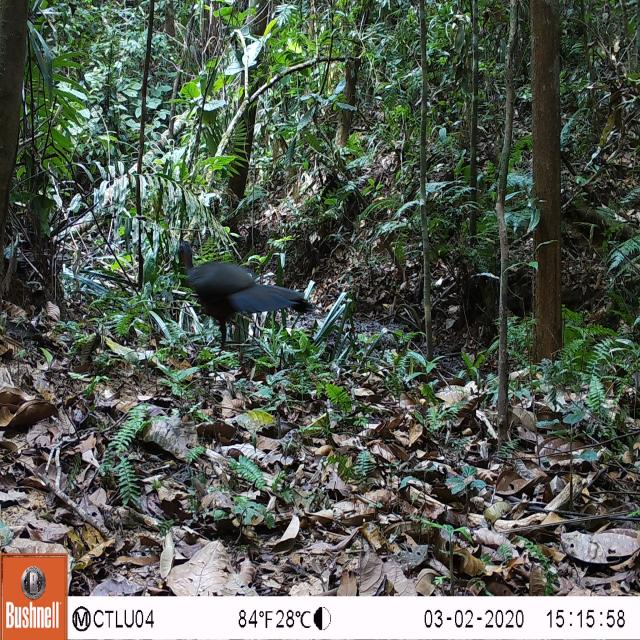Spixs Guan: (160, 218, 327, 364)
